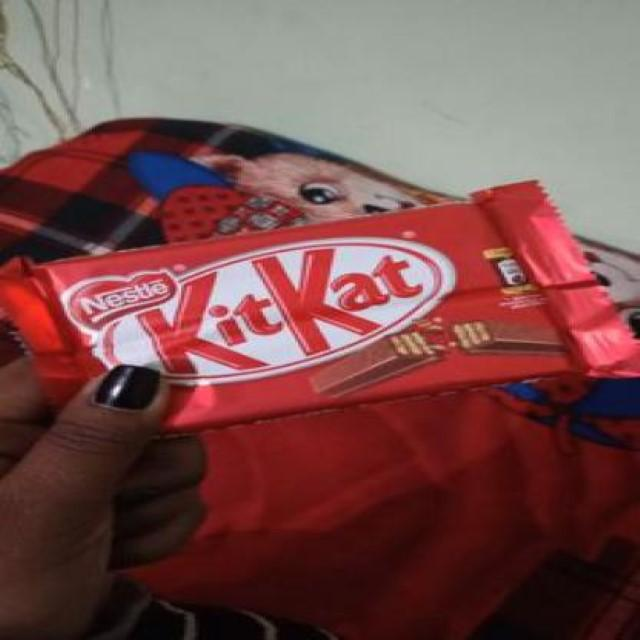kitkat_chocolate: (38, 200, 617, 438)
